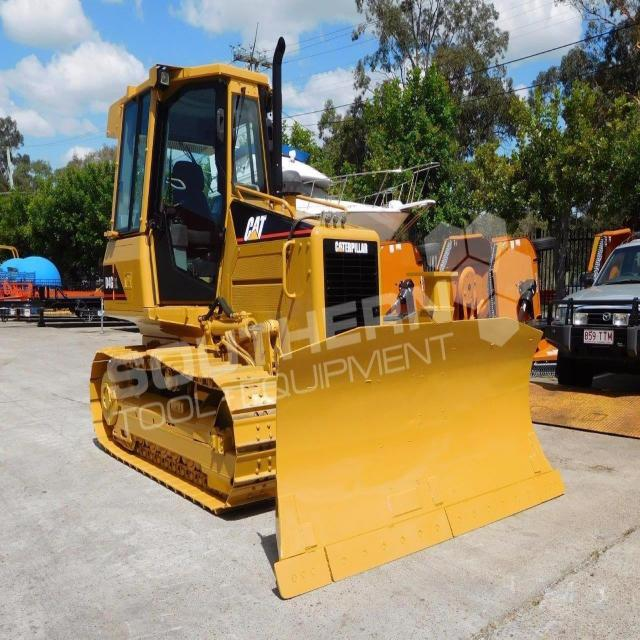Bulldozer: (79, 25, 575, 593)
